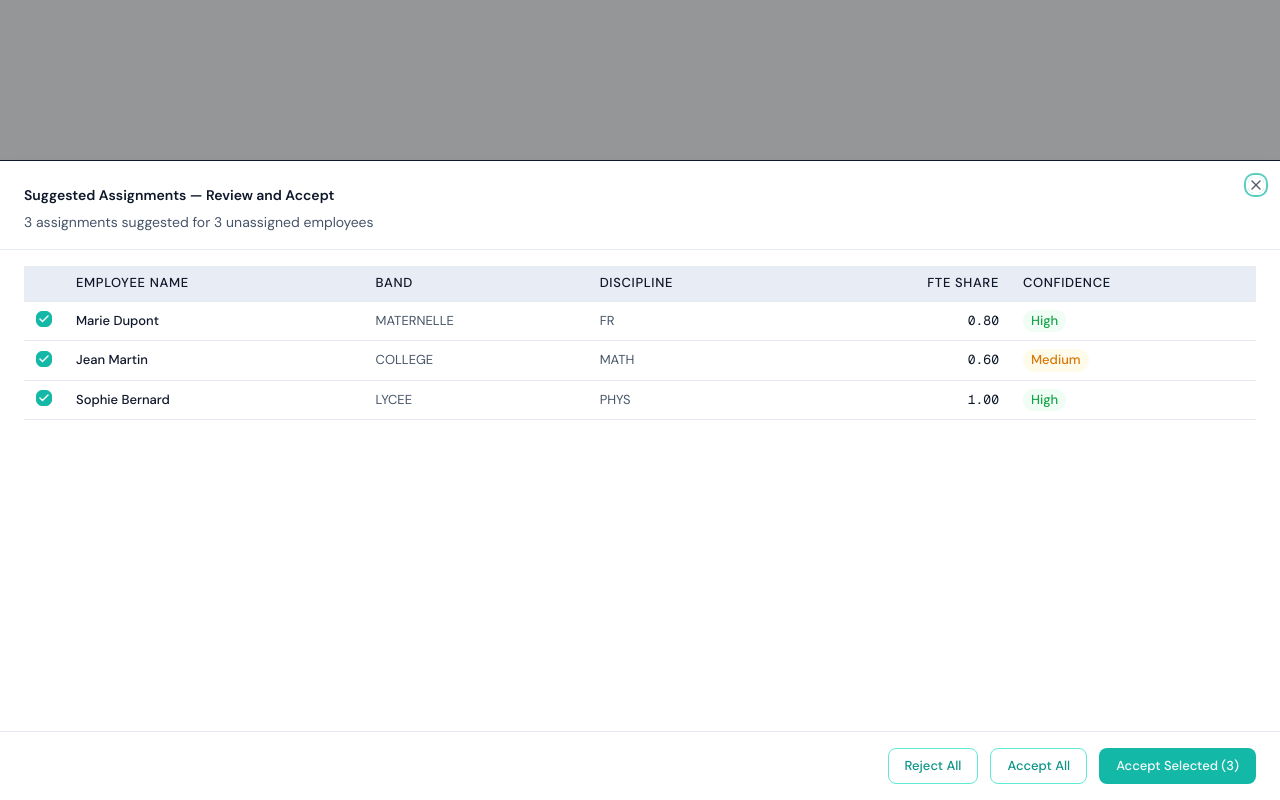
Test case: AutoSuggestDialog › updates Accept Selected count when a checkbox is unchecked
Click the checkbox named "Select Marie Dupont" at coordinates (44, 319), box [36,311,52,327]
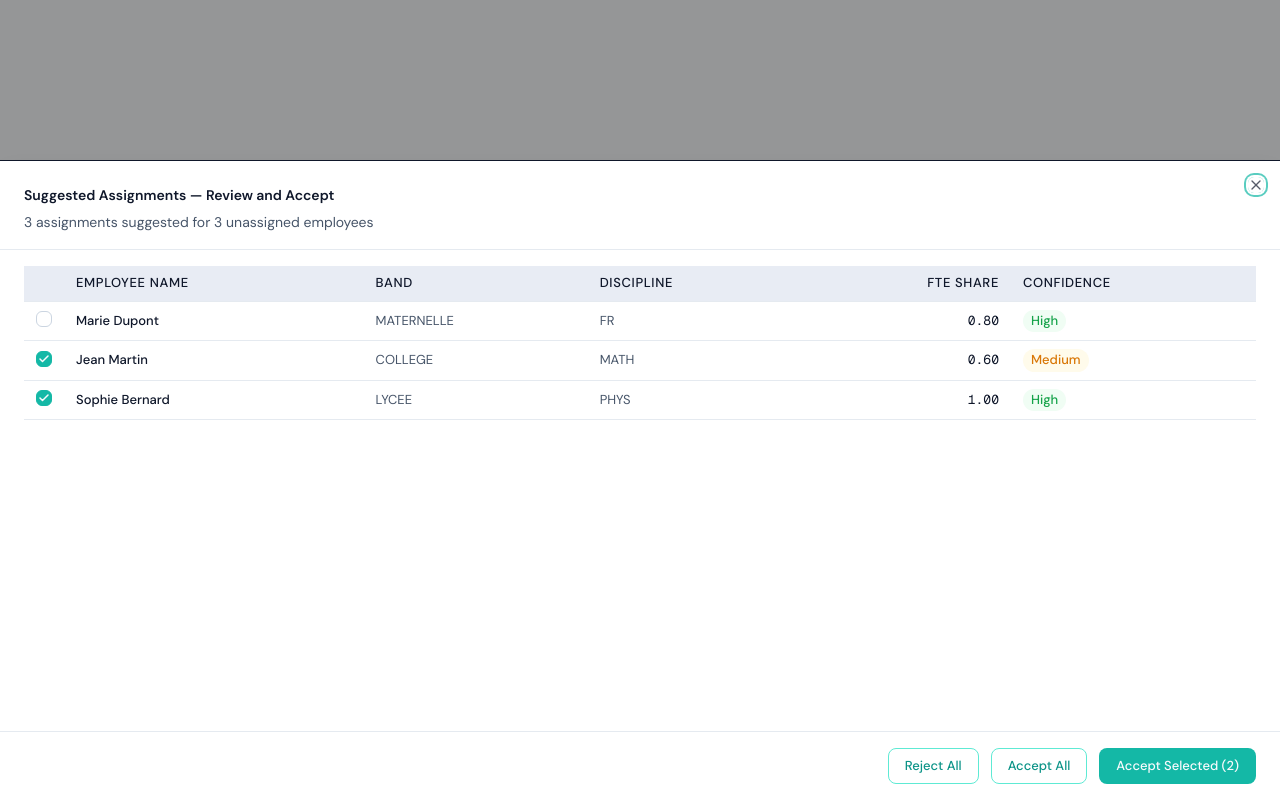
Expected: the button "Accept Selected (2)" is shown, [1099,748,1256,784]
